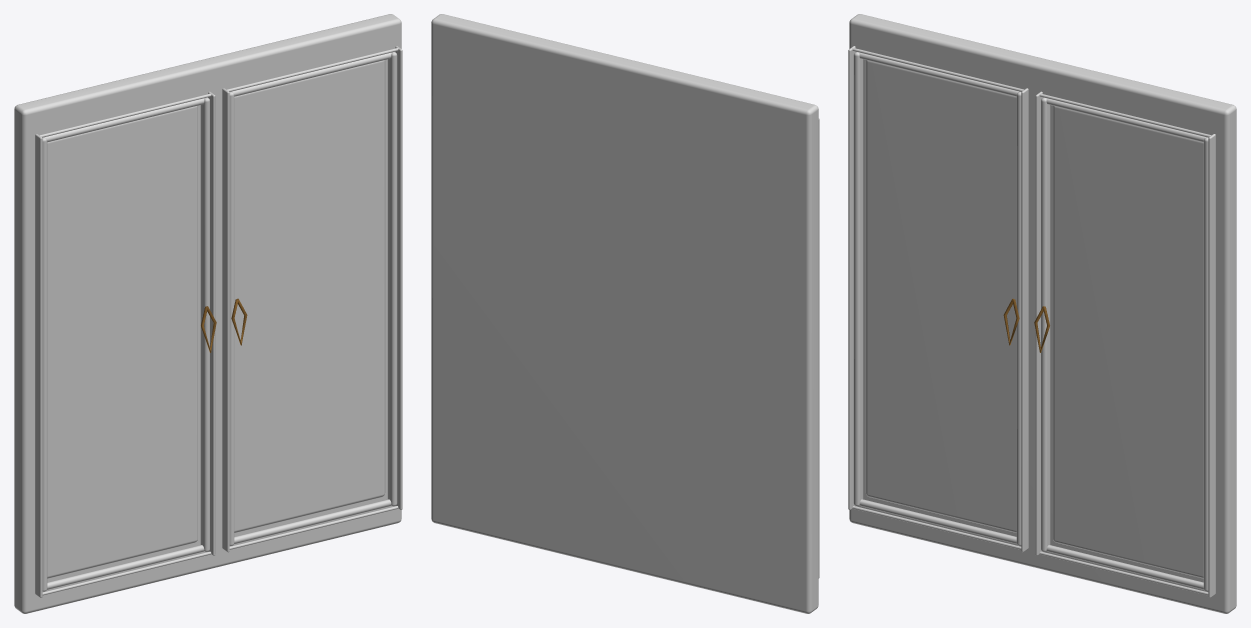
The model's file is WardrobeLeaf.fbx.
3 views of the same model, side by side, from view 1: azimuth 30°, elevation 25°; view 2: azimuth 150°, elevation 25°; view 3: azimuth 330°, elevation 25° (orthographic).
Parts seen in each view (by area): view 1: WardrobeLeaf_Walnut, WardrobeLeaf_Brass; view 2: WardrobeLeaf_Walnut; view 3: WardrobeLeaf_Walnut, WardrobeLeaf_Brass.
Boxes of the visible parts, x1,y1,x2,y2 form: WardrobeLeaf_Walnut: [14, 14, 402, 613]; WardrobeLeaf_Brass: [201, 298, 247, 352]; WardrobeLeaf_Walnut: [431, 14, 819, 613]; WardrobeLeaf_Walnut: [848, 14, 1236, 613]; WardrobeLeaf_Brass: [1003, 298, 1049, 352].
Size of the model in its own units: 136 by 173 by 14.75.
